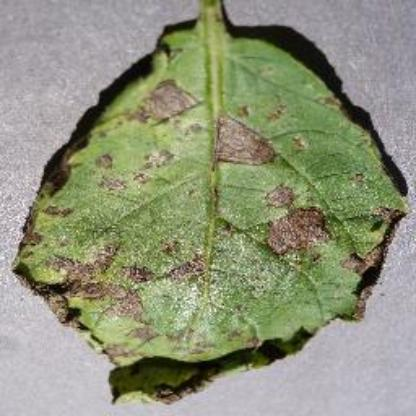Early-Blight: (11, 1, 410, 404)
